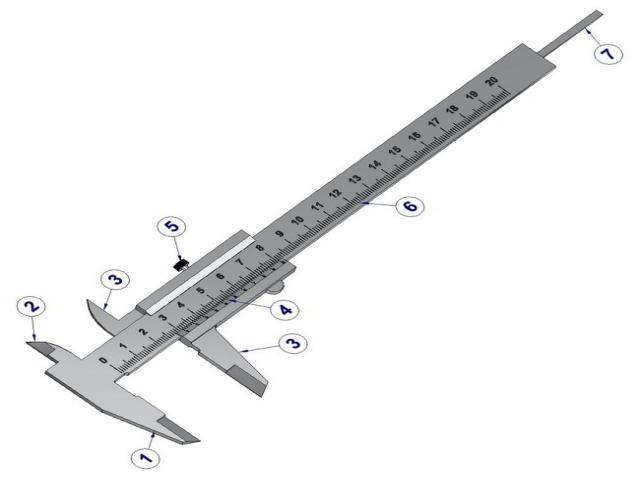Calipers: (29, 11, 601, 444)
